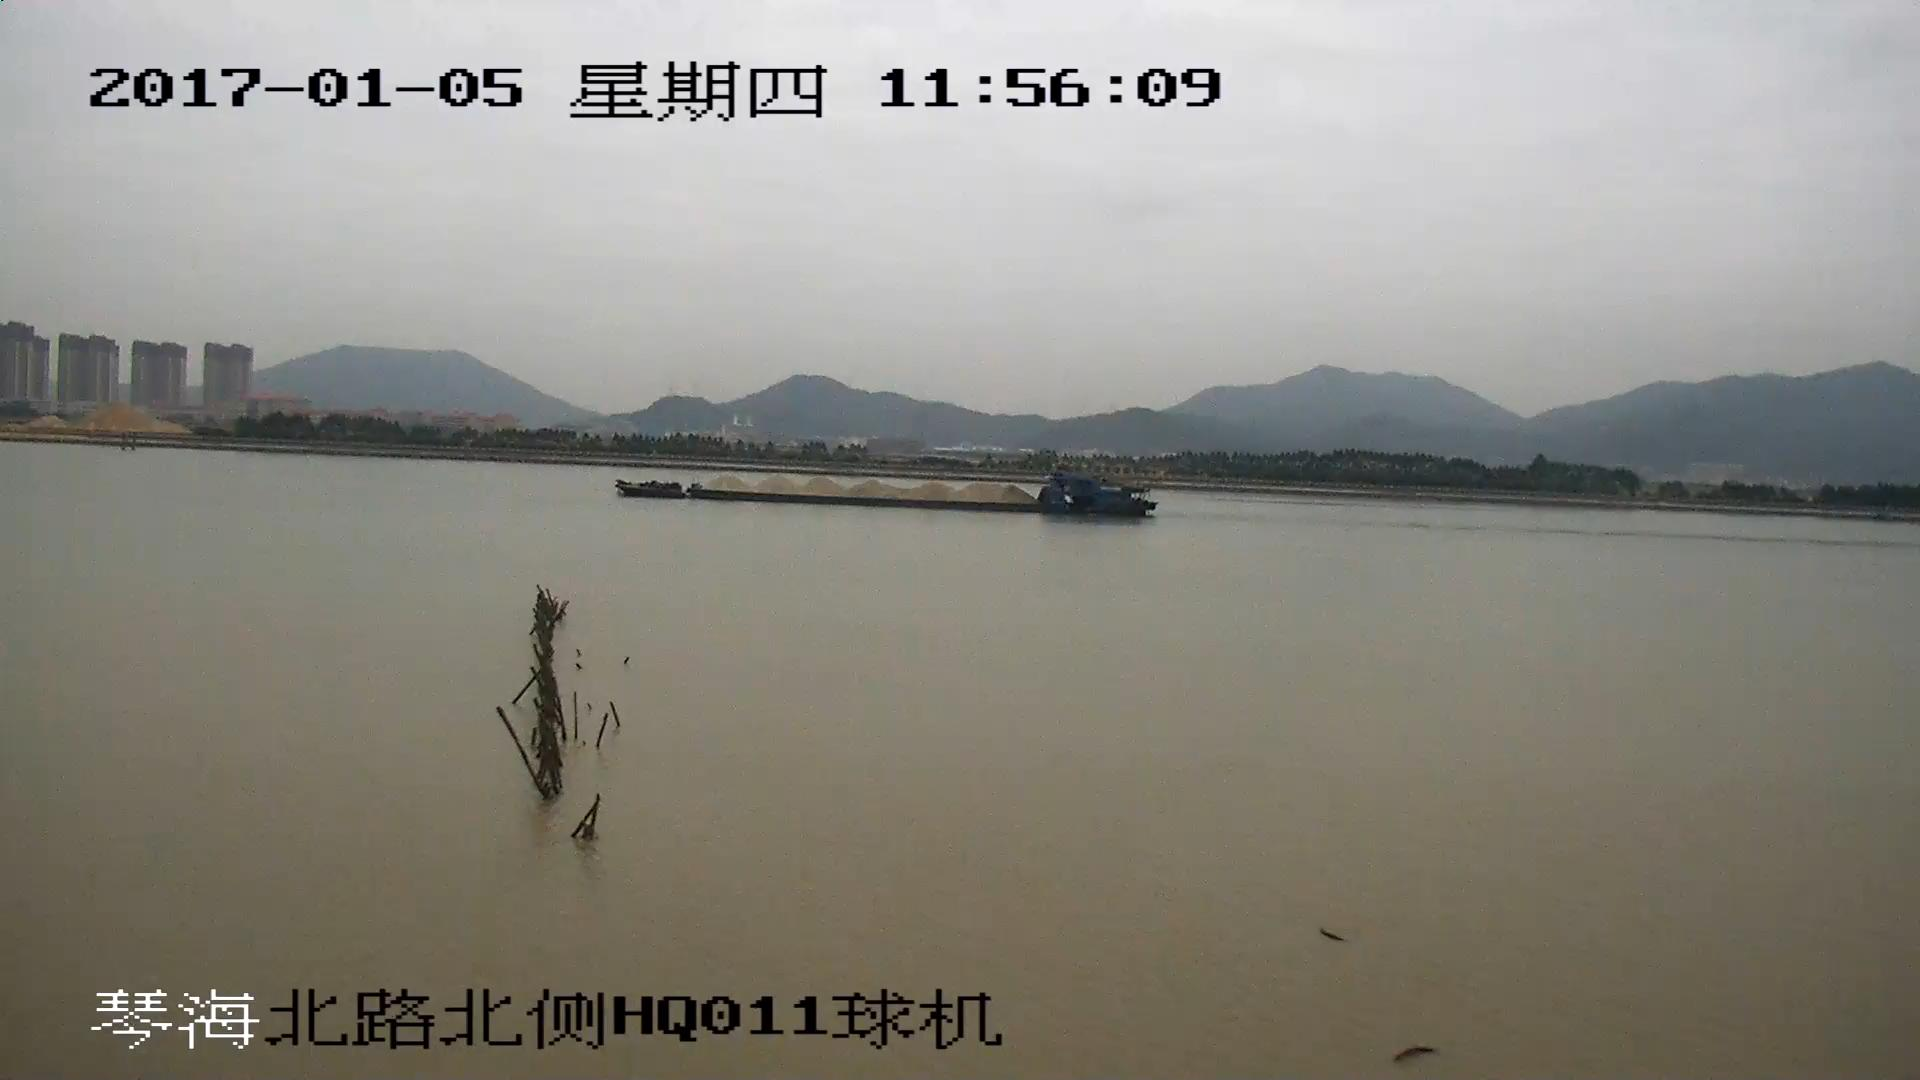ore carrier: (626, 474, 1156, 520)
